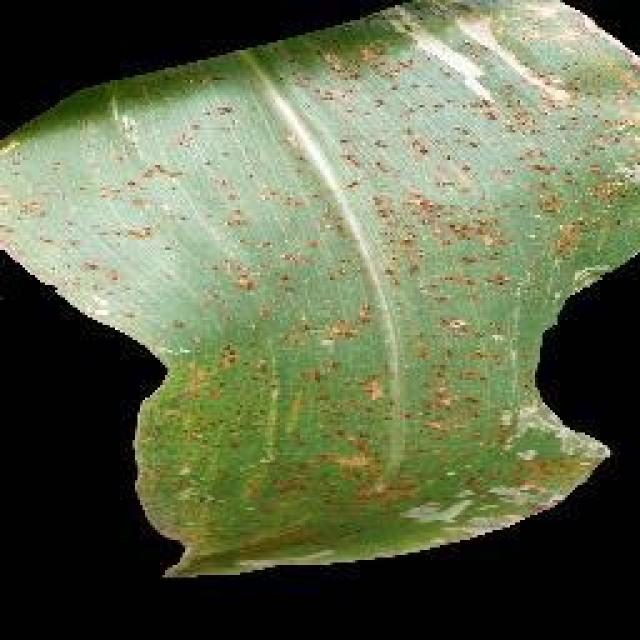Corn Common Rust: (88, 97, 600, 465)
